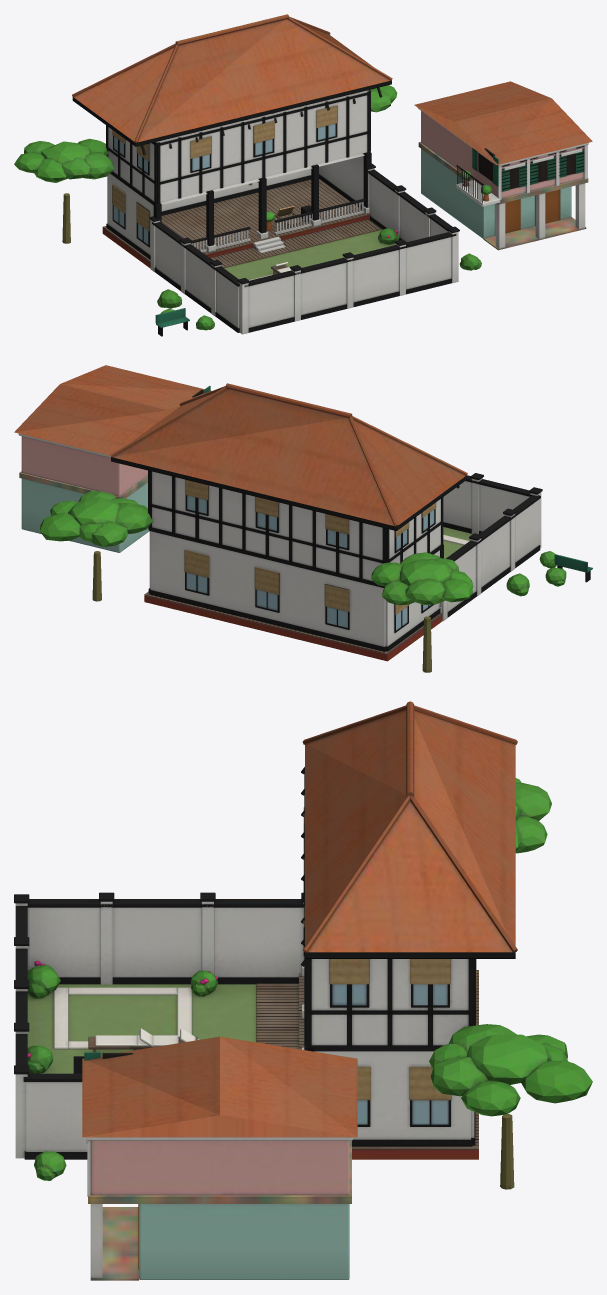
The model's file is valora-house-sg.glb.
3 views of the same model, one above another, from view 1: azimuth 30°, elevation 25°; view 2: azimuth 150°, elevation 25°; view 3: azimuth 270°, elevation 25° (orthographic). The views are drawn at different scales.
Parts seen in each view (by area): view 1: valora-house-sg; view 2: valora-house-sg; view 3: valora-house-sg.
Part boxes in pixels (<box>): valora-house-sg: <box>14,14,592,336</box>; valora-house-sg: <box>14,365,592,672</box>; valora-house-sg: <box>14,701,592,1280</box>.
Bounding box in the file's own units: 21.54 × 9.42 × 14.3.
22 materials, 22 textured.
